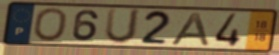2: (138, 8, 175, 48)
4: (213, 12, 243, 49)
6: (72, 9, 101, 43)
A: (168, 11, 212, 47)
O: (31, 7, 69, 43)
U: (102, 7, 143, 46)
